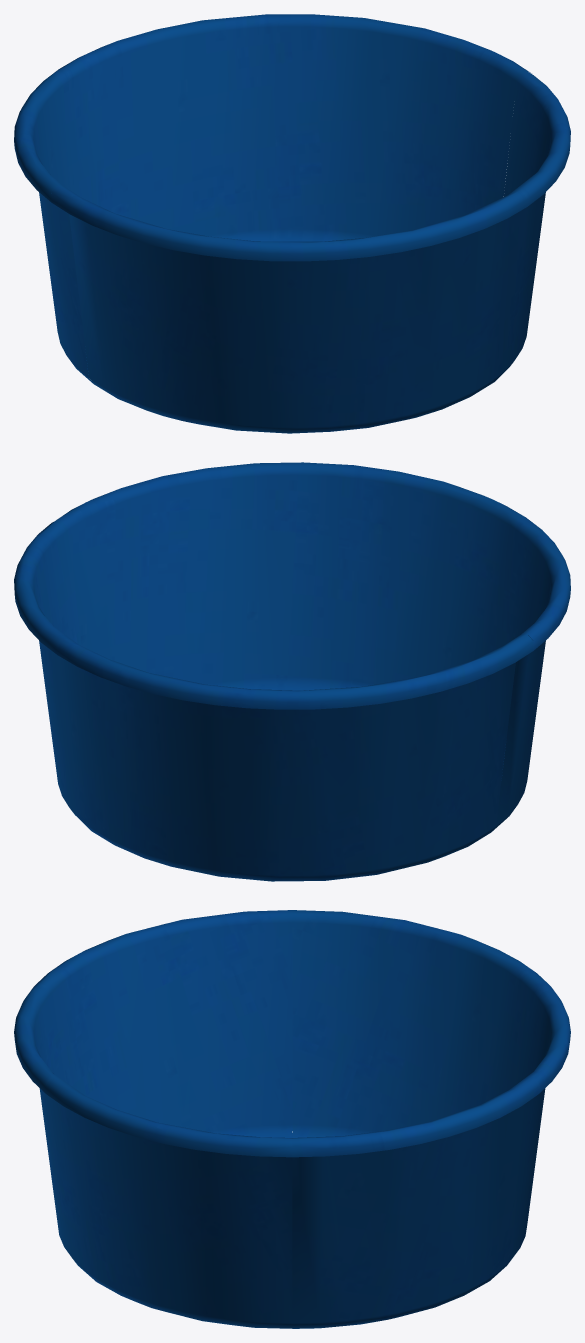
The model's file is wash_basin.glb.
3 renders of one model, top to bottom at view 1: azimuth 30°, elevation 25°; view 2: azimuth 150°, elevation 25°; view 3: azimuth 270°, elevation 25°, orthographic.
Parts seen in each view (by area): view 1: PlasticWashBasin2_PlasticWashBasin2_0; view 2: PlasticWashBasin2_PlasticWashBasin2_0; view 3: PlasticWashBasin2_PlasticWashBasin2_0.
Boxes of the visible parts, box(x1,y1,x2,y2) form: PlasticWashBasin2_PlasticWashBasin2_0: box(14, 14, 570, 433); PlasticWashBasin2_PlasticWashBasin2_0: box(14, 462, 570, 881); PlasticWashBasin2_PlasticWashBasin2_0: box(14, 910, 570, 1328).
Size of the model in its own units: 0.3225 by 0.1372 by 0.323.
1 material, 1 textured.
